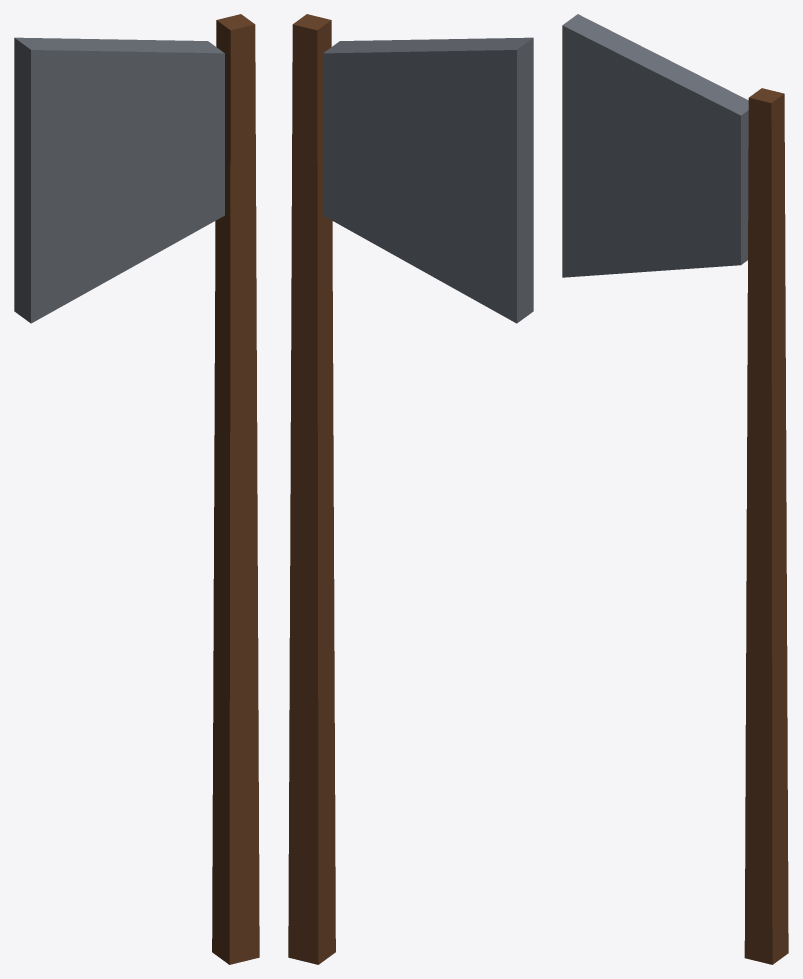
File: SM_Prop_BoardingAxe_LQ.glb
The picture shows the model from 3 angles, left to right: view 1: azimuth 30°, elevation 25°; view 2: azimuth 150°, elevation 25°; view 3: azimuth 330°, elevation 25°; orthographic projection. The views are drawn at different scales.
Visible parts, largest first — view 1: SM_Prop_BoardingAxe_LQ; view 2: SM_Prop_BoardingAxe_LQ; view 3: SM_Prop_BoardingAxe_LQ.
Boxes of the visible parts, bbox=[...] form: SM_Prop_BoardingAxe_LQ: bbox=[14, 14, 259, 964]; SM_Prop_BoardingAxe_LQ: bbox=[288, 14, 533, 964]; SM_Prop_BoardingAxe_LQ: bbox=[562, 14, 788, 964].
Size of the model in its own units: 0.2356 by 0.95 by 0.0311.
Materials: 1 (1 with a texture image).
